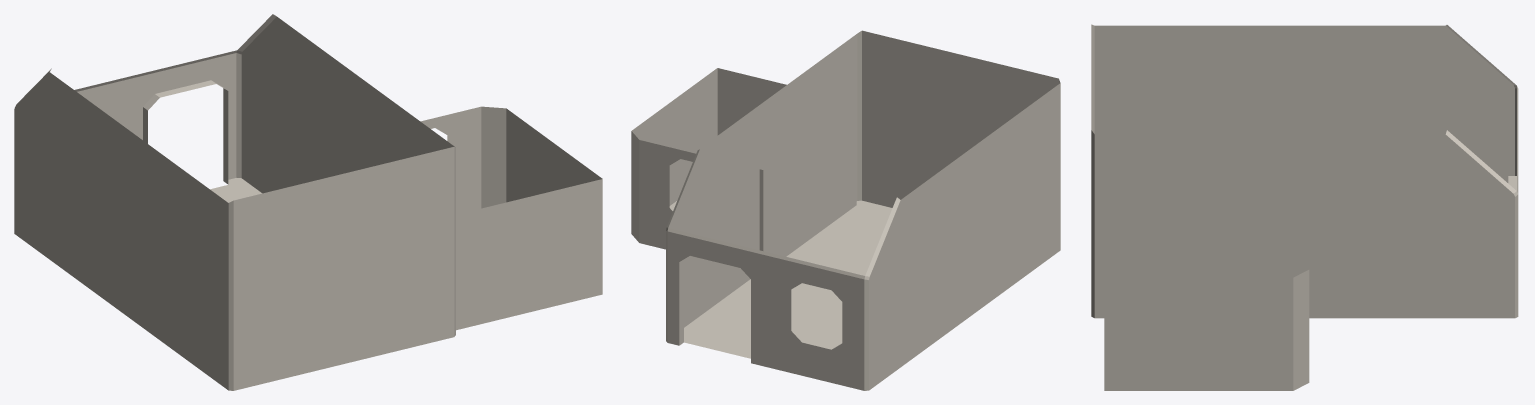
File: Bld_R_med_L3_B.fbx
3 renders of one model, left to right at view 1: azimuth 30°, elevation 25°; view 2: azimuth 150°, elevation 25°; view 3: azimuth 270°, elevation 25°, orthographic. The views are drawn at different scales.
Parts seen in each view (by area): view 1: Bld_R_med_L3_B_LOD0; view 2: Bld_R_med_L3_B_LOD0; view 3: Bld_R_med_L3_B_LOD0.
Part boxes in pixels (x1=…): Bld_R_med_L3_B_LOD0: x1=14, y1=14, x2=602, y2=390; Bld_R_med_L3_B_LOD0: x1=631, y1=30, x2=1060, y2=390; Bld_R_med_L3_B_LOD0: x1=1091, y1=24, x2=1518, y2=390.
Size of what is drawn, in the model's own units: 1414 by 982 by 1407.
Materials: 1 (1 with a texture image).
